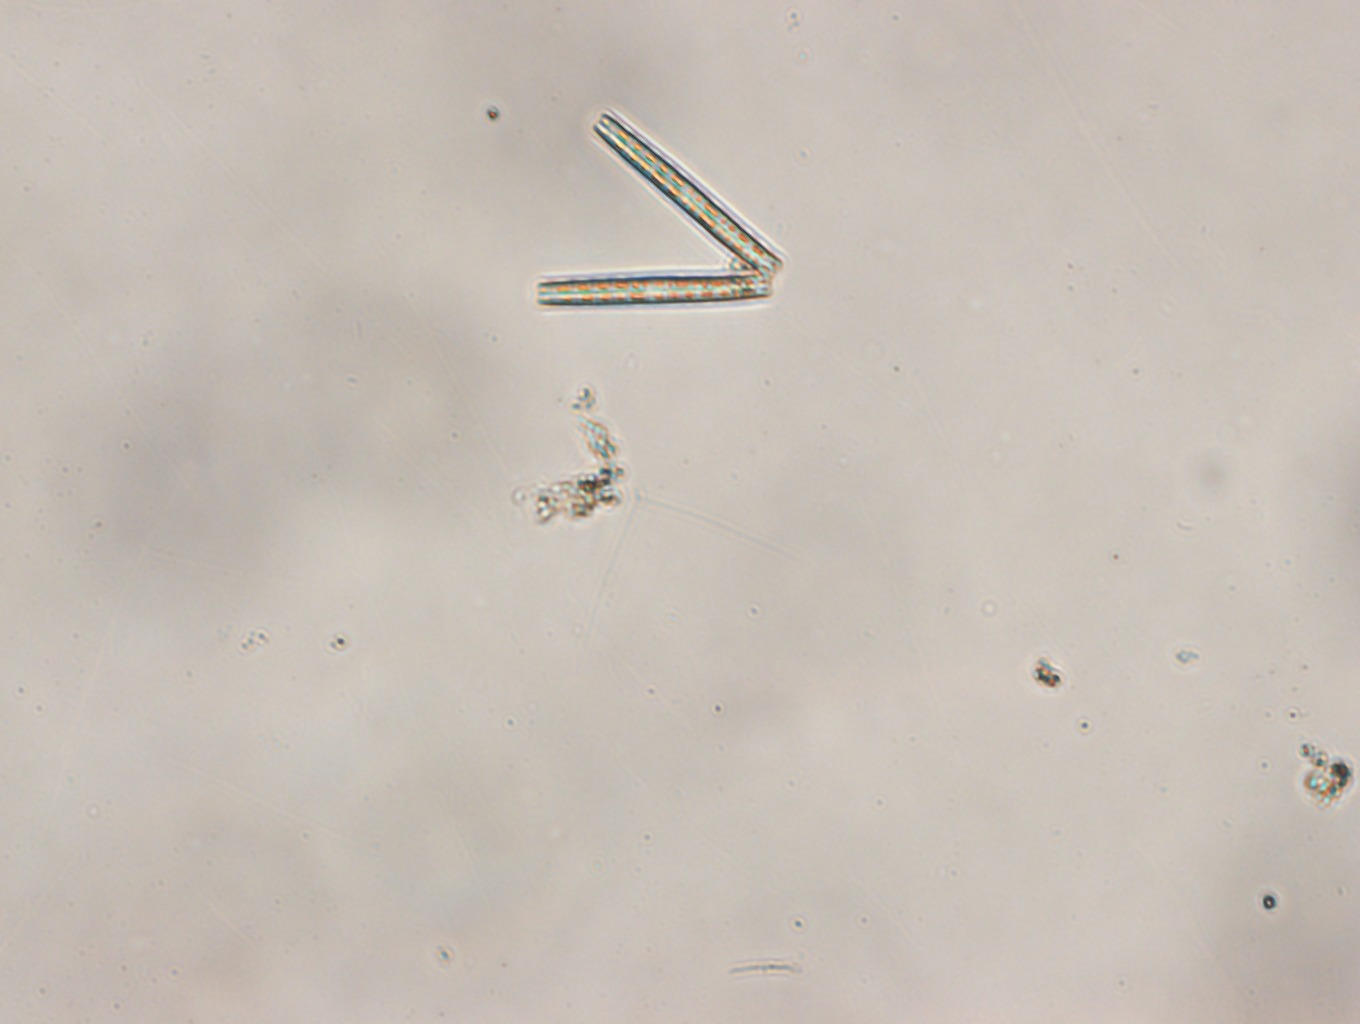thalassionema nitzschioides: (533, 113, 786, 310)
